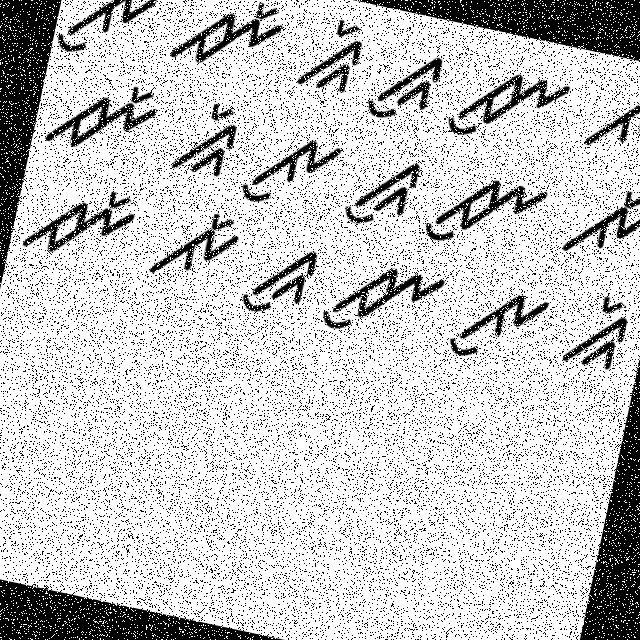ar: (147, 197, 246, 296), (558, 175, 639, 270), (575, 63, 639, 170)
aw: (230, 112, 350, 222), (438, 266, 554, 372), (53, 0, 161, 76)
nggar: (160, 86, 248, 188), (553, 275, 639, 379), (286, 2, 372, 106)
nggaw: (234, 228, 322, 330), (336, 143, 432, 236), (363, 36, 450, 131)
njar: (16, 160, 141, 274), (37, 66, 162, 176), (165, 0, 293, 92)
njaw: (442, 42, 576, 162), (314, 239, 452, 354), (422, 160, 552, 264)
